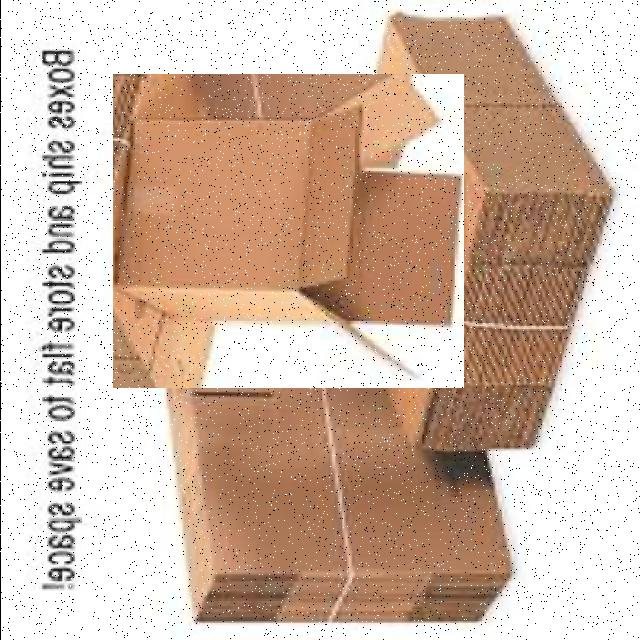defect: (112, 74, 463, 388)
